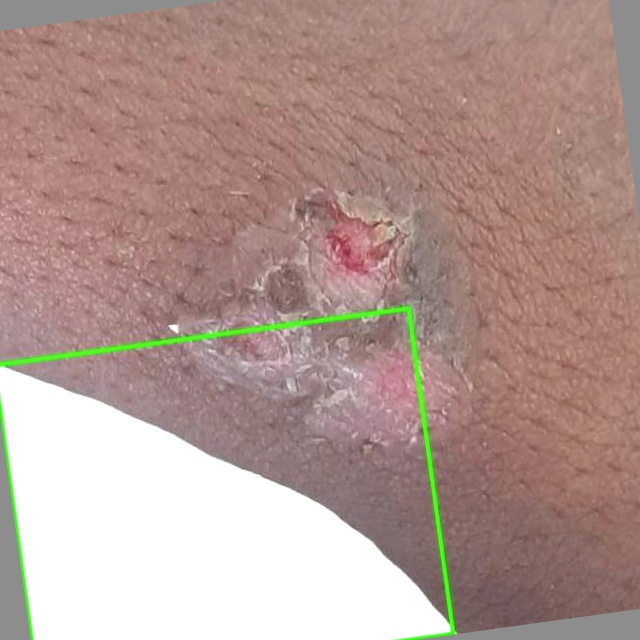Contact Dermatitis: (0, 308, 453, 639)
